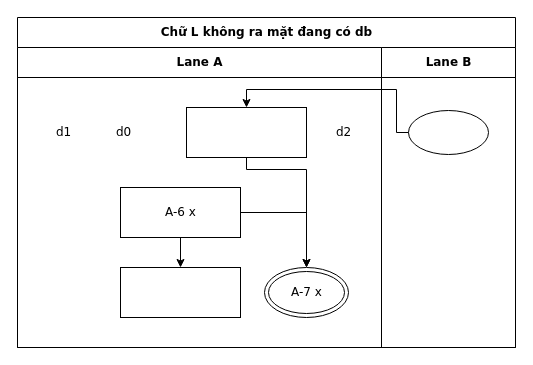
Some shapes in this 533 by 365 pixel diagram are drawn without their labels. The centre of each missing label's shape, as x and y in pixels:
"A-4 x" belongs at (x=246, y=132).
"A-8 x" belongs at (x=180, y=292).
"B-1 x" belongs at (x=448, y=132).
